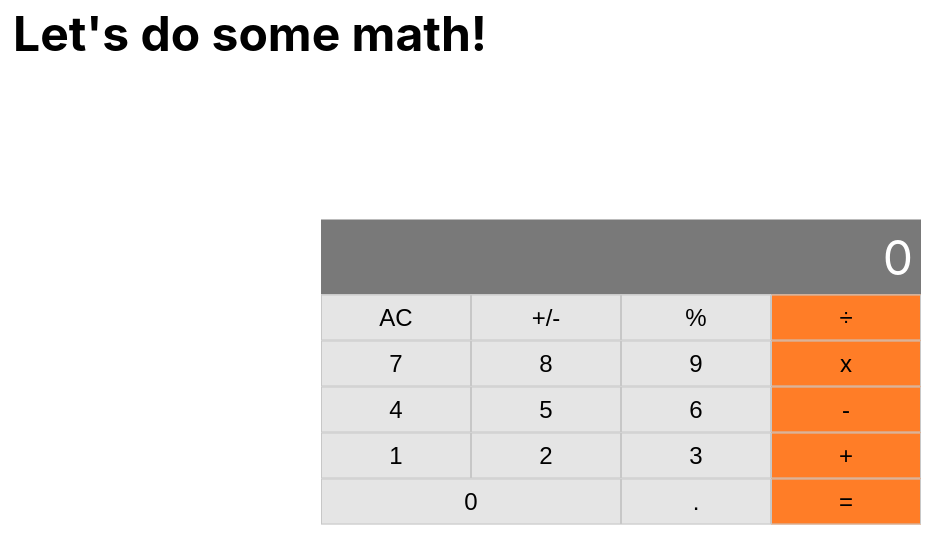
Calculator tests › Simulation of user interaction with the calculator: %
The width and height of the screenshot is (938, 542).
What coordinates should you click on to do the following:
click the button "8"
I would click on:
 (546, 364)
Its box is [471,340,621,386].
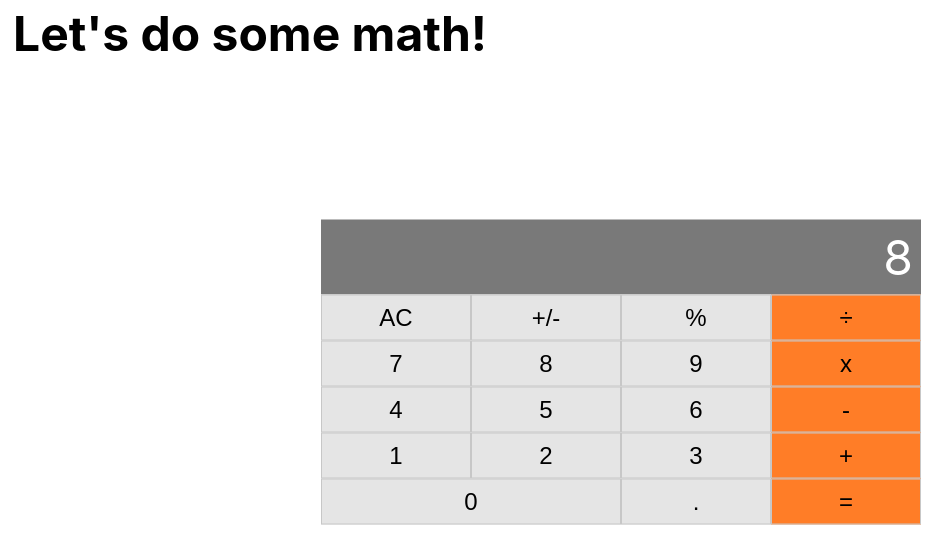
What coordinates should you click on to do the following:
click the button "x"
I would click on:
 (846, 364)
Its box is [771,340,921,386].
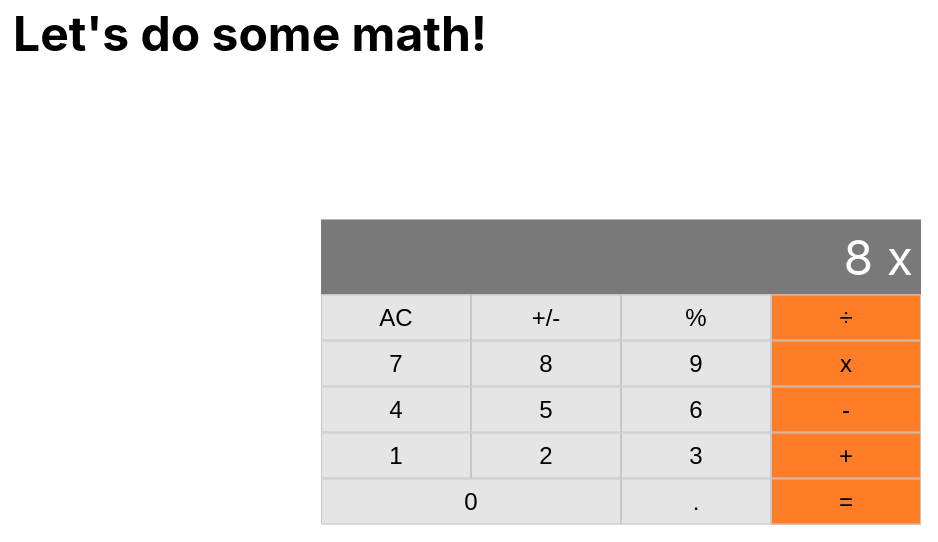
What coordinates should you click on to do the following:
click the button "7"
I would click on:
 (396, 364)
Its box is [321,340,471,386].
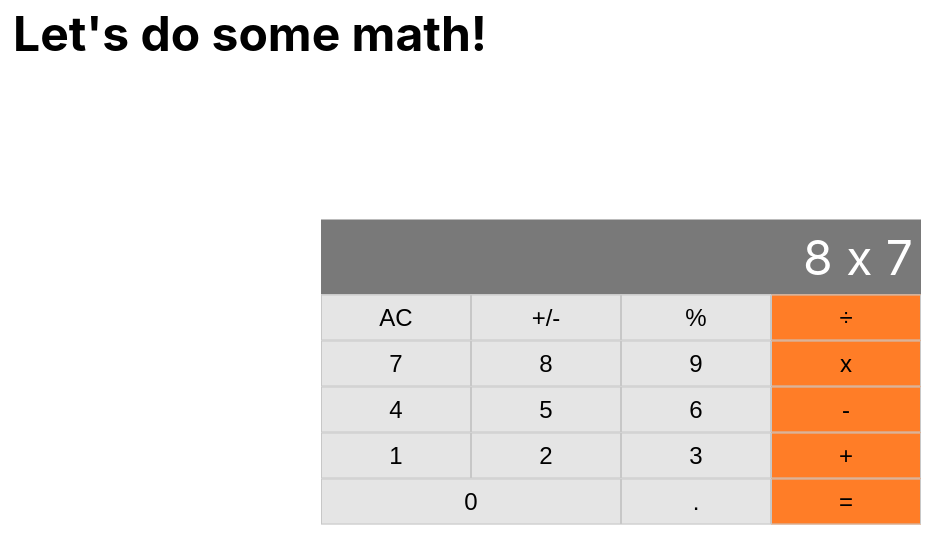
What coordinates should you click on to do the following:
click the button "="
I would click on:
 (846, 502)
Its box is [771,478,921,524].
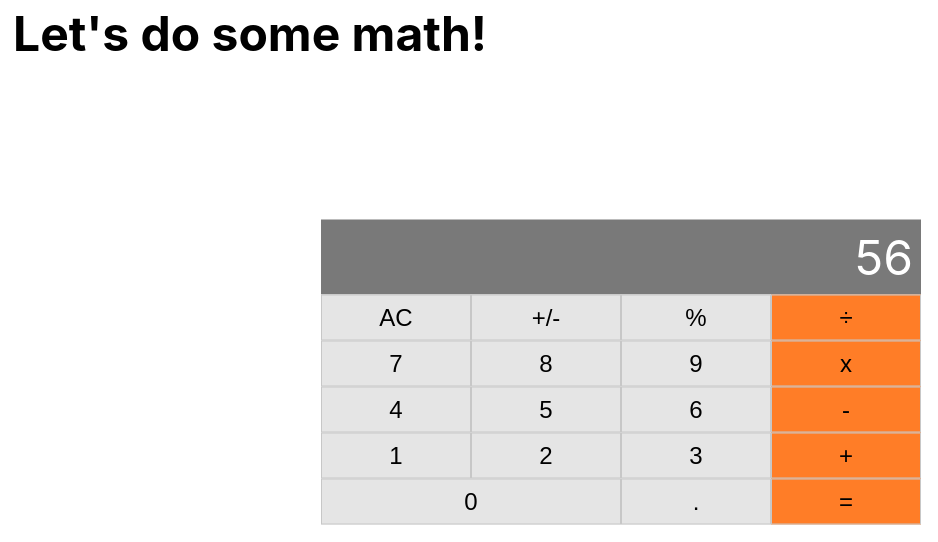
Expected: the text "56" is shown, [321,220,921,294]
